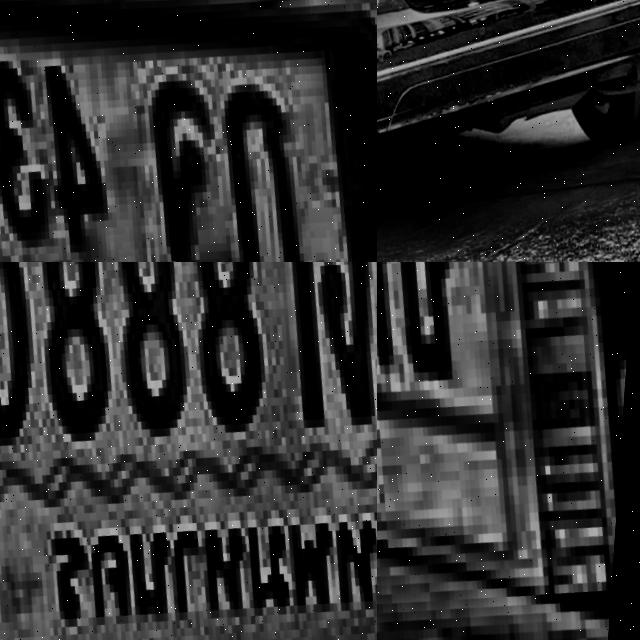license-plate: (0, 262, 377, 640), (377, 262, 640, 640), (0, 0, 377, 262)
